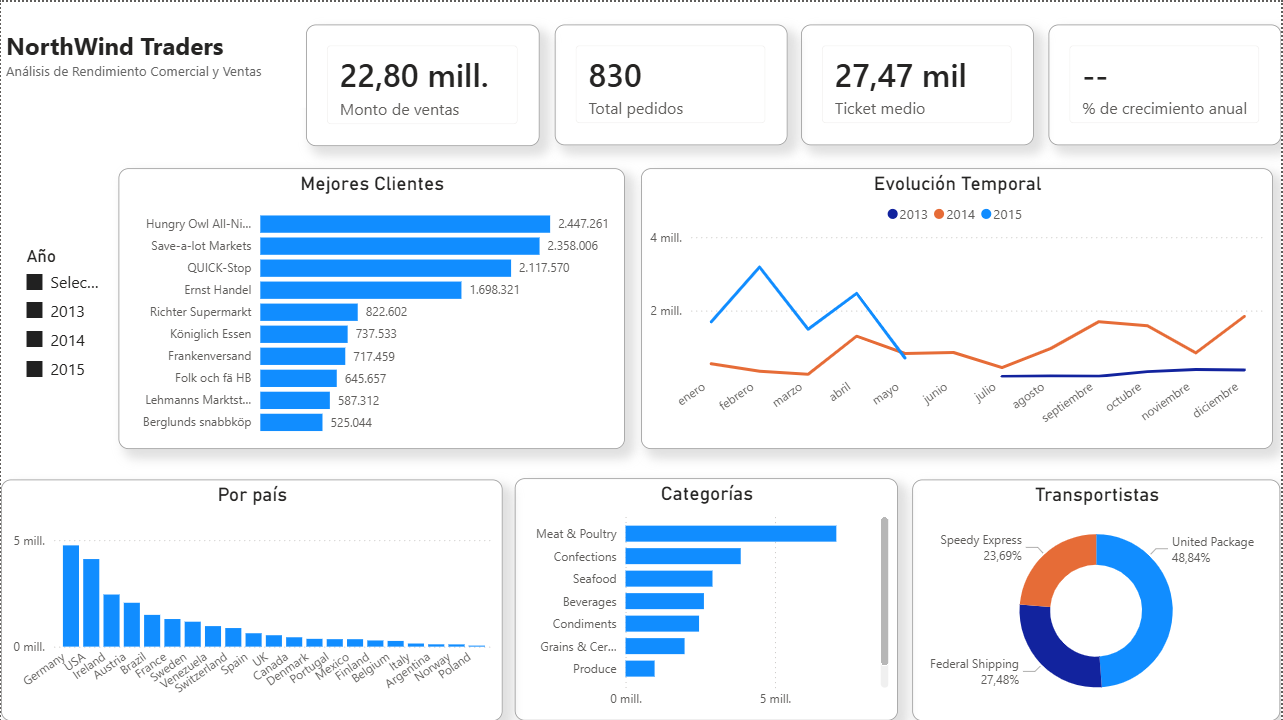

The page's visual inventory and layout, read from the dashboard file:
{"tool":"powerbi","page":{"name":"Página 1","canvas":[1280,720],"ordinal":0},"visuals":[{"type":"cardVisual","fields":{"Data":["_Medidas.Monto de ventas"]},"box":[304.8,22.4,233.9,121.9],"z":0},{"type":"cardVisual","fields":{"Data":["_Medidas.Total pedidos"]},"box":[553.1,22.4,232.6,120.7],"z":1000},{"type":"cardVisual","fields":{"Data":["_Medidas.Ticket medio"]},"box":[800.3,22.4,232.6,120.7],"z":2000},{"type":"cardVisual","fields":{"Data":["_Medidas.% de crecimiento anual"]},"box":[1047.4,22.4,232.6,120.7],"z":3000},{"type":"clusteredBarChart","title":"Mejores Clientes","fields":{"Category":["dim_clientes.companyName"],"Y":["_Medidas.Monto de ventas"]},"box":[116.9,166.7,506.3,281.1],"z":4000},{"type":"lineChart","title":"Evolución Temporal","fields":{"Category":["dim_calendario.Date.Variación.Jerarquía de fechas.Año","dim_calendario.Date.Variación.Jerarquía de fechas.Mes"],"Y":["_Medidas.Monto de ventas"]},"box":[639.4,166.7,631.9,281.1],"z":5000},{"type":"columnChart","title":"Por país","fields":{"Category":["dim_clientes.country"],"Y":["_Medidas.Monto de ventas"]},"box":[0,477.7,501.3,241.3],"z":6000},{"type":"clusteredBarChart","title":"Categorías","fields":{"Category":["dim_productos.categoryName"],"Y":["_Medidas.Monto de ventas"]},"box":[513.8,476.4,383.1,242.6],"z":7000},{"type":"donutChart","title":"Transportistas","fields":{"Category":["dim_transportistas.companyName"],"Y":["_Medidas.Monto de ventas"]},"box":[911.8,477.7,368.2,241.3],"z":8000},{"type":"slicer","fields":{"Values":["dim_calendario.Date.Variación.Jerarquía de fechas.Año"]},"box":[12.4,238.2,94.5,148],"z":9000},{"type":"textbox","box":[0,22.4,304.8,83.3],"z":9001}]}

Visuals, with their boxes in screenshot pixels (x1, y1, x2, y2), scaled from the page's 1280x720 canvas onto the 1283x720 screenshot:
cardVisual - _Medidas.Monto de ventas: 306,22,540,144
cardVisual - _Medidas.Total pedidos: 554,22,788,143
cardVisual - _Medidas.Ticket medio: 802,22,1035,143
cardVisual - _Medidas.% de crecimiento anual: 1050,22,1282,143
"Mejores Clientes" clusteredBarChart: 117,167,625,448
"Evolución Temporal" lineChart: 641,167,1274,448
"Por país" columnChart: 0,478,502,719
"Categorías" clusteredBarChart: 515,476,899,719
"Transportistas" donutChart: 914,478,1282,719
slicer - dim_calendario.Date.Variación.Jerarquía de fechas.Año: 12,238,107,386
textbox: 0,22,306,106
